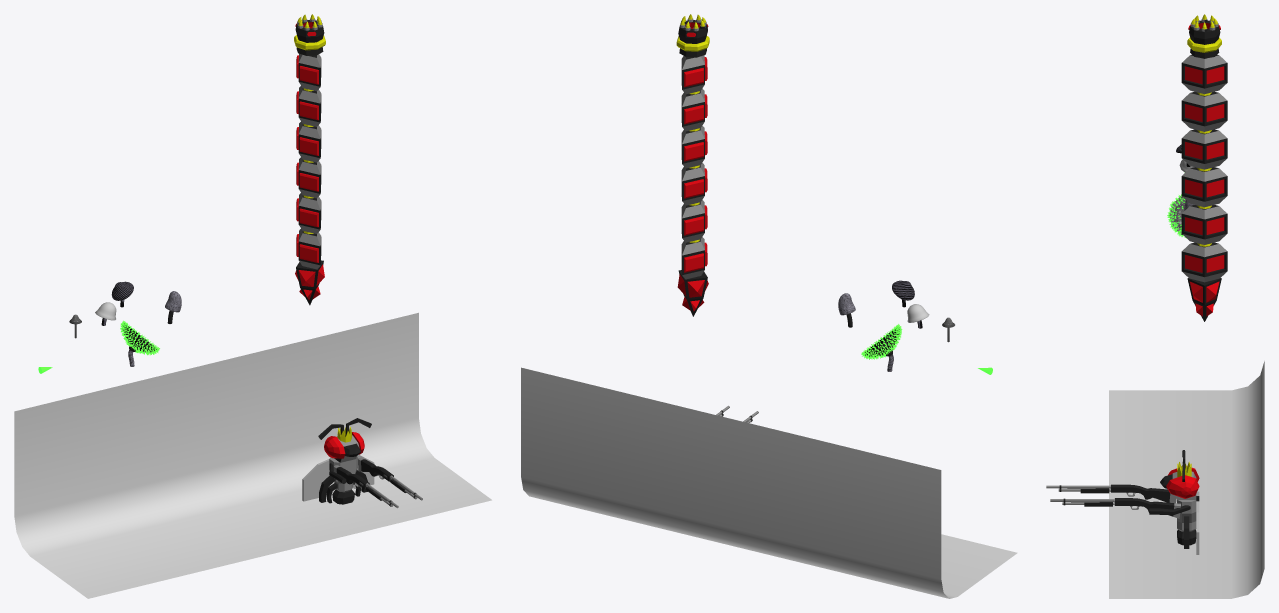
Rendered from Mushroom Queen.fbx.
3 views of the same model, side by side, from view 1: azimuth 30°, elevation 25°; view 2: azimuth 150°, elevation 25°; view 3: azimuth 270°, elevation 25° (orthographic). The views are drawn at different scales.
Visible parts, largest first — view 1: Backdrop, Cylinder, Cube.001, Cube, Cube.003, Cube.002, Cube.005, Cube.004, Plane.003; view 2: Backdrop, Cube.001, Cube, Cube.002, Cube.003, Cube.004, Cube.005; view 3: Backdrop, Cube.001, Cube, Cylinder, Cube.004, Cube.005, Cube.002, Cube.003, Plane.002, Plane.003, Mushroom 5.
Part boxes in pixels (x1=…): Backdrop: x1=14, y1=312, x2=491, y2=598; Cylinder: x1=302, y1=418, x2=378, y2=504; Cube.001: x1=294, y1=14, x2=325, y2=91; Cube: x1=295, y1=229, x2=324, y2=305; Cube.003: x1=296, y1=157, x2=321, y2=198; Cube.002: x1=296, y1=193, x2=321, y2=233; Cube.005: x1=296, y1=86, x2=321, y2=126; Cube.004: x1=296, y1=121, x2=321, y2=162; Plane.003: x1=358, y1=457, x2=422, y2=500; Backdrop: x1=521, y1=367, x2=1017, y2=598; Cube.001: x1=676, y1=14, x2=709, y2=94; Cube: x1=677, y1=237, x2=708, y2=316; Cube.002: x1=681, y1=200, x2=707, y2=242; Cube.003: x1=681, y1=163, x2=707, y2=205; Cube.004: x1=681, y1=126, x2=707, y2=168; Cube.005: x1=681, y1=88, x2=707, y2=131; Backdrop: x1=1109, y1=361, x2=1264, y2=598; Cube.001: x1=1181, y1=14, x2=1227, y2=94; Cube: x1=1181, y1=242, x2=1227, y2=321; Cylinder: x1=1149, y1=450, x2=1199, y2=554; Cube.004: x1=1181, y1=129, x2=1227, y2=169; Cube.005: x1=1181, y1=91, x2=1227, y2=131; Cube.002: x1=1181, y1=205, x2=1227, y2=244; Cube.003: x1=1181, y1=167, x2=1227, y2=207; Plane.002: x1=1046, y1=484, x2=1176, y2=503; Plane.003: x1=1050, y1=498, x2=1180, y2=518; Mushroom 5: x1=1169, y1=196, x2=1185, y2=234.
Size of the model in its own units: 5208 by 5879 by 2242.
